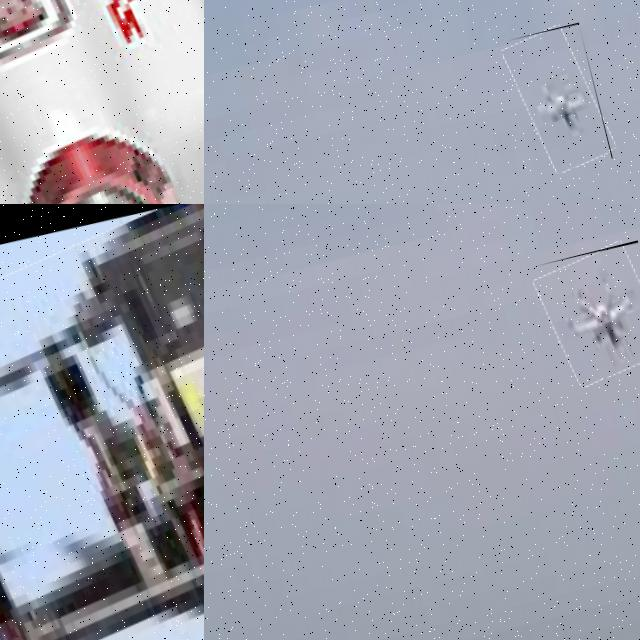0: (504, 22, 612, 176), (533, 240, 640, 388)
drone: (0, 204, 204, 640), (0, 0, 204, 204)
